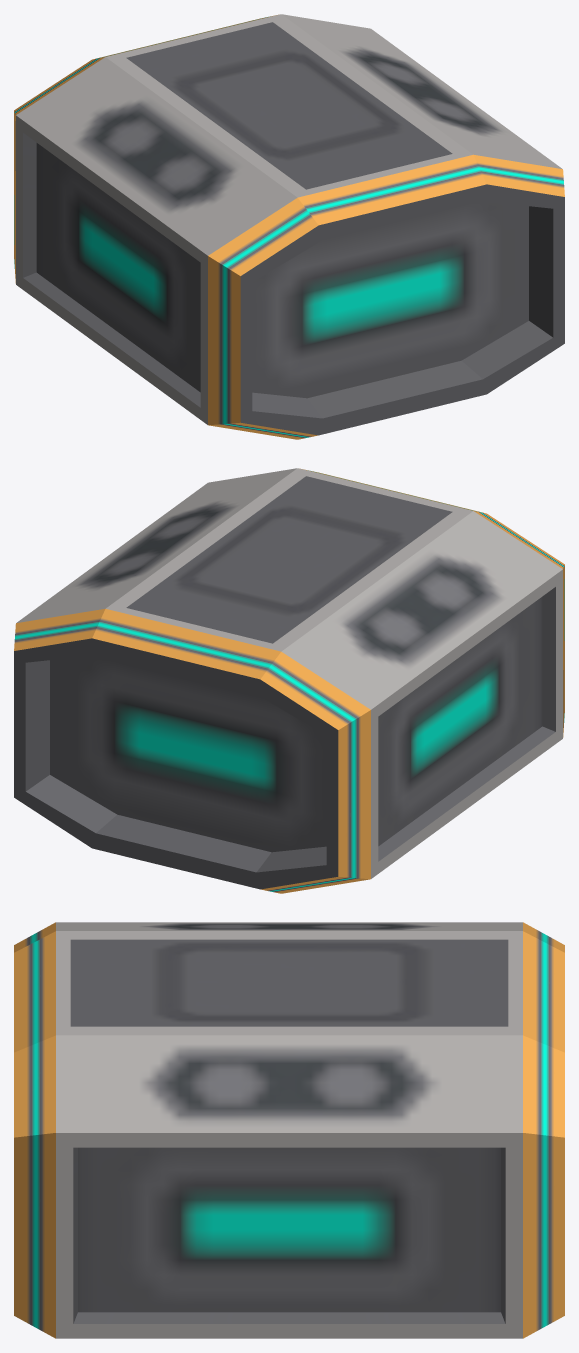
File: SM_Bld_Train_Rail_Connector_01.fbx
3 views of the same model, one above another, from view 1: azimuth 30°, elevation 25°; view 2: azimuth 150°, elevation 25°; view 3: azimuth 270°, elevation 25° (orthographic). The views are drawn at different scales.
Visible parts, largest first — view 1: SM_Bld_Train_Rail_Connector_01; view 2: SM_Bld_Train_Rail_Connector_01; view 3: SM_Bld_Train_Rail_Connector_01.
Boxes of the visible parts, bbox=[...] form: SM_Bld_Train_Rail_Connector_01: bbox=[14, 14, 564, 439]; SM_Bld_Train_Rail_Connector_01: bbox=[14, 468, 564, 893]; SM_Bld_Train_Rail_Connector_01: bbox=[14, 922, 564, 1338].
Bounding box in the file's own units: 140 × 91.44 × 155.
